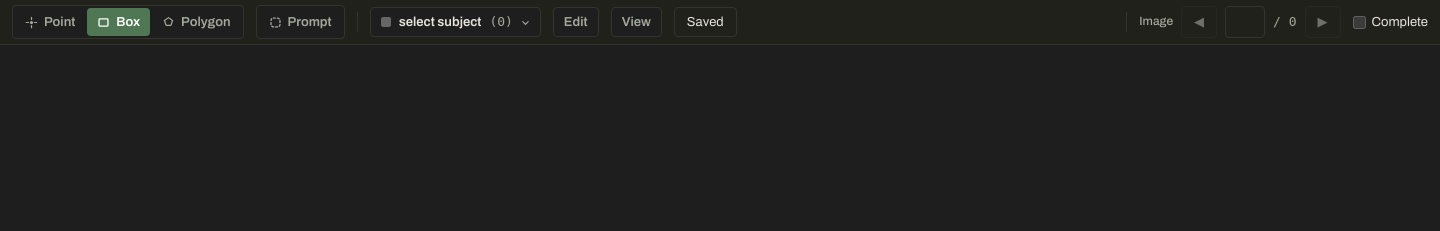
Test: AnnotateToolbar Cut item › states the how-to once enabled, in polygon mode
This screenshot has width=1440, height=231.
What coordinates should you click on to do the following:
click the button "Polygon"
I would click on:
 (196, 22)
Its box is [152, 8, 241, 36].
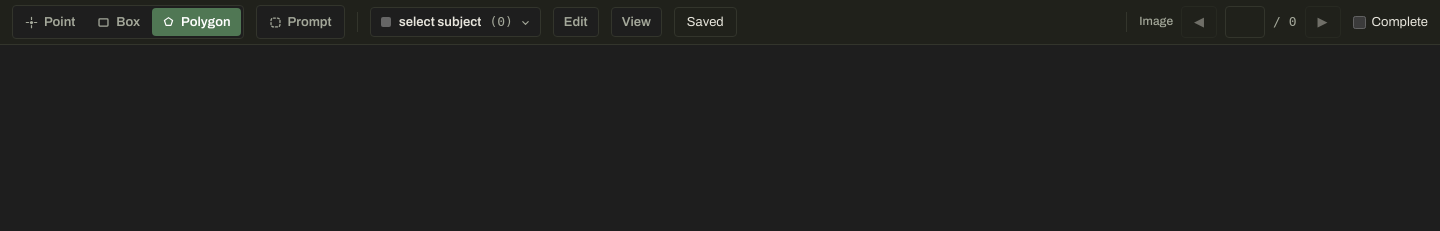
What coordinates should you click on to do the following:
click the button "Edit"
I would click on:
 (576, 22)
Its box is [553, 7, 599, 37].
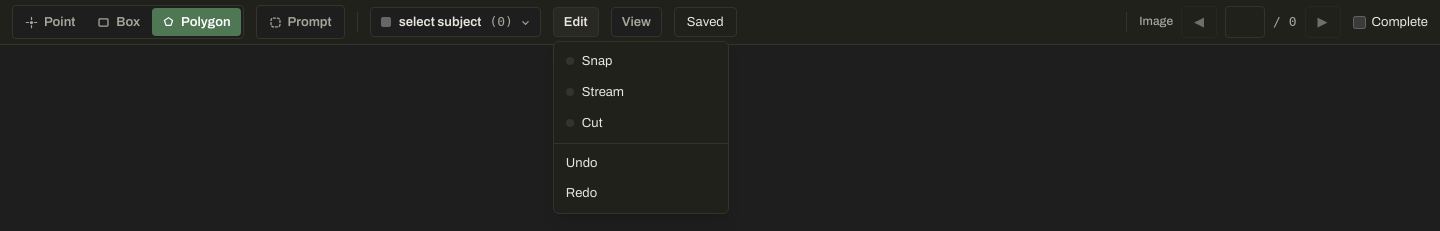
Expected: the menu item "Cut" is enabled, [554, 108, 728, 138]
